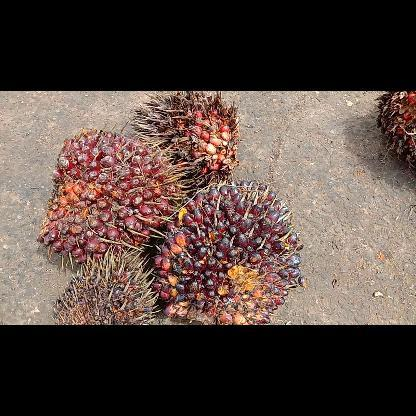Kurang masak: (152, 176, 301, 324)
TBS abnormal: (50, 248, 162, 324)
TBS masak: (35, 126, 182, 266)
Terlalu masak: (127, 90, 240, 188)
